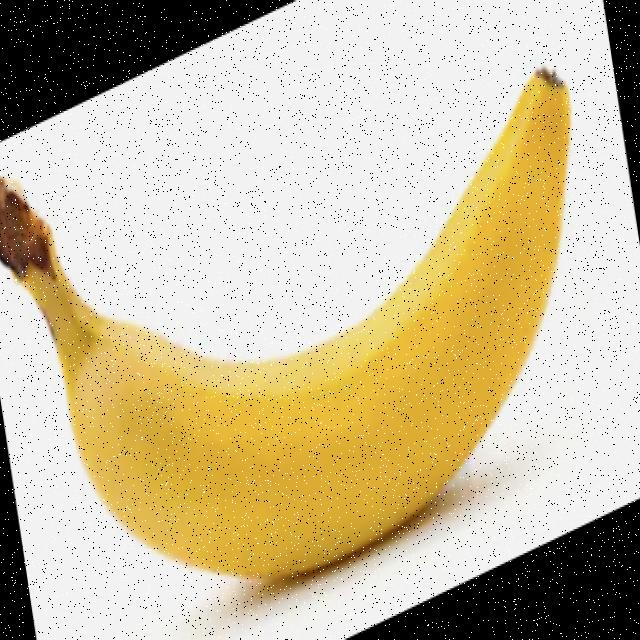god quality banana: (19, 76, 571, 576)
